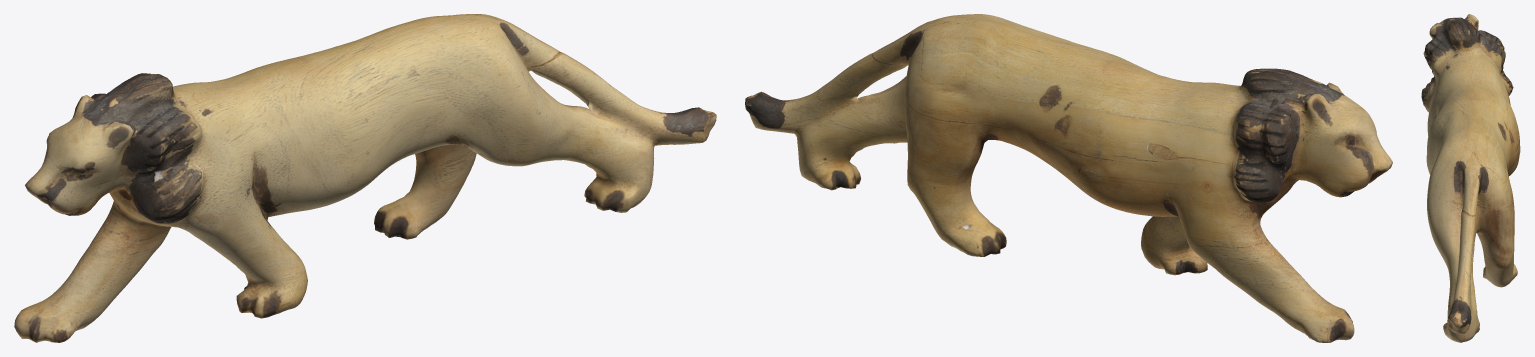
Rendered from toy-lion.gltf.
The picture shows the model from 3 angles, left to right: view 1: azimuth 30°, elevation 25°; view 2: azimuth 150°, elevation 25°; view 3: azimuth 270°, elevation 25°; orthographic projection. The views are drawn at different scales.
Visible parts, largest first — view 1: lion-statue-optimised.001; view 2: lion-statue-optimised.001; view 3: lion-statue-optimised.001.
Boxes of the visible parts, left/top/right/bottom form: lion-statue-optimised.001: left=14, top=14, right=716, bottom=342; lion-statue-optimised.001: left=745, top=14, right=1392, bottom=342; lion-statue-optimised.001: left=1421, top=14, right=1520, bottom=342.
Bounding box in the file's own units: 3.72 × 1.3 × 0.6984.
Materials: 1 (1 with a texture image).
